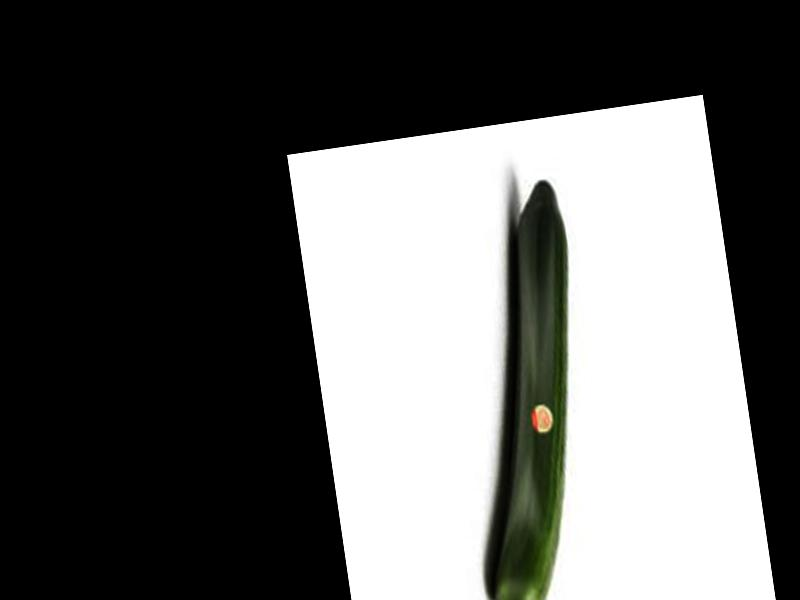Cucumber: (436, 178, 620, 600)
